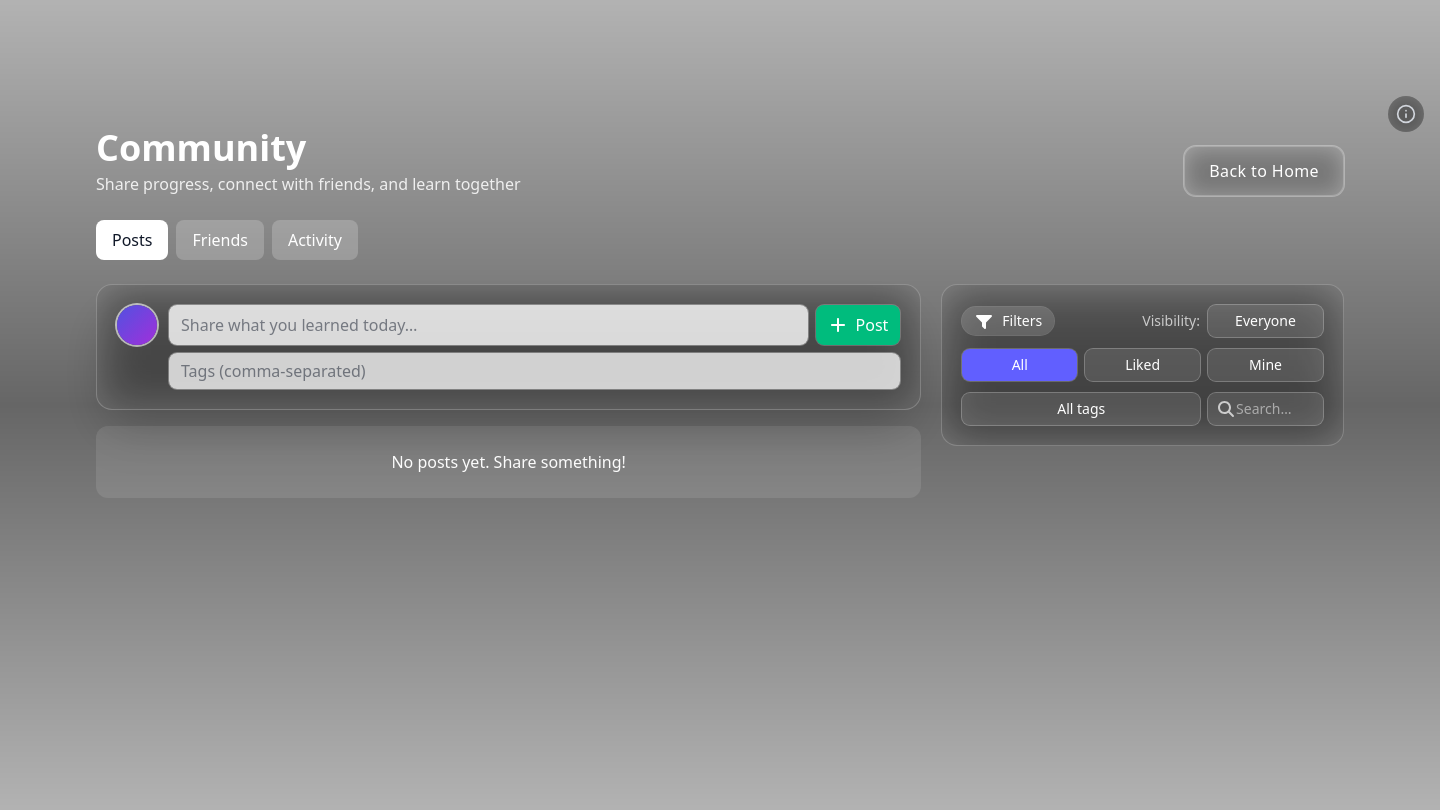
CommunityPage › shows error when sending friend request without username
Step 1. Click the button "Friends" → (220, 240), box left=176, top=220, right=264, bottom=260
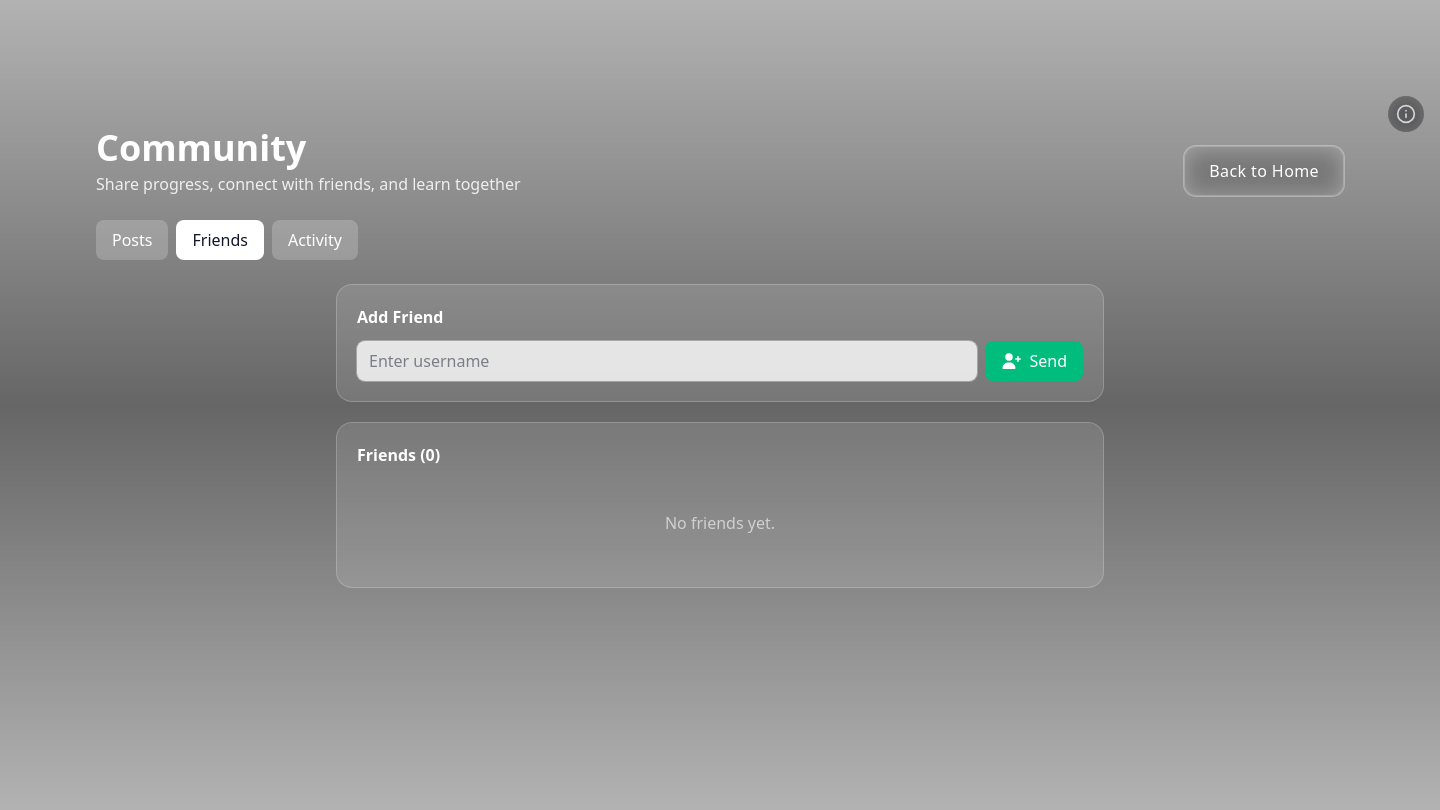
Now the button "Send" is shown
Step 2. Click the button "Send" → (1034, 361), box left=986, top=341, right=1083, bottom=381
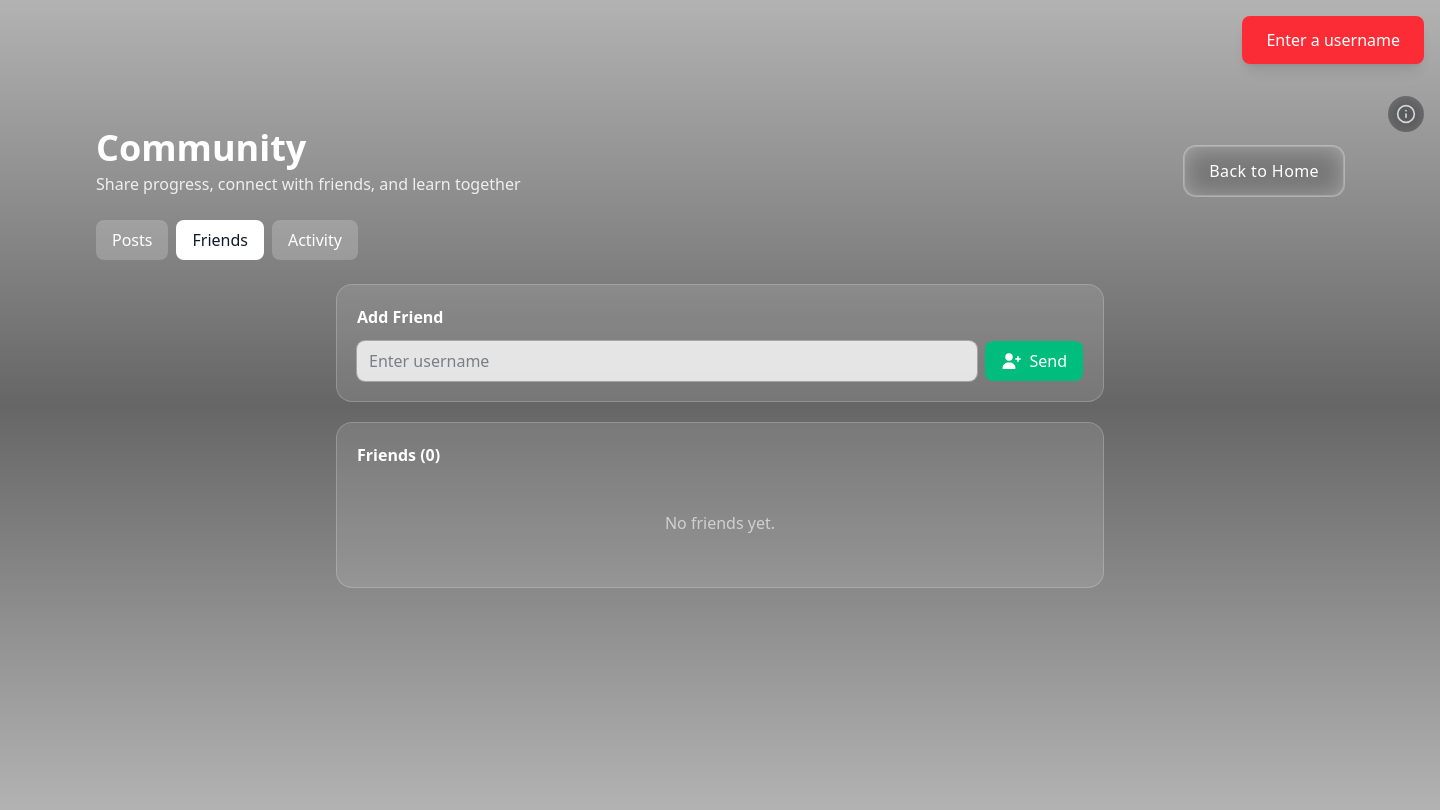
Now the text "Enter a username" is shown, box left=1242, top=16, right=1424, bottom=64
